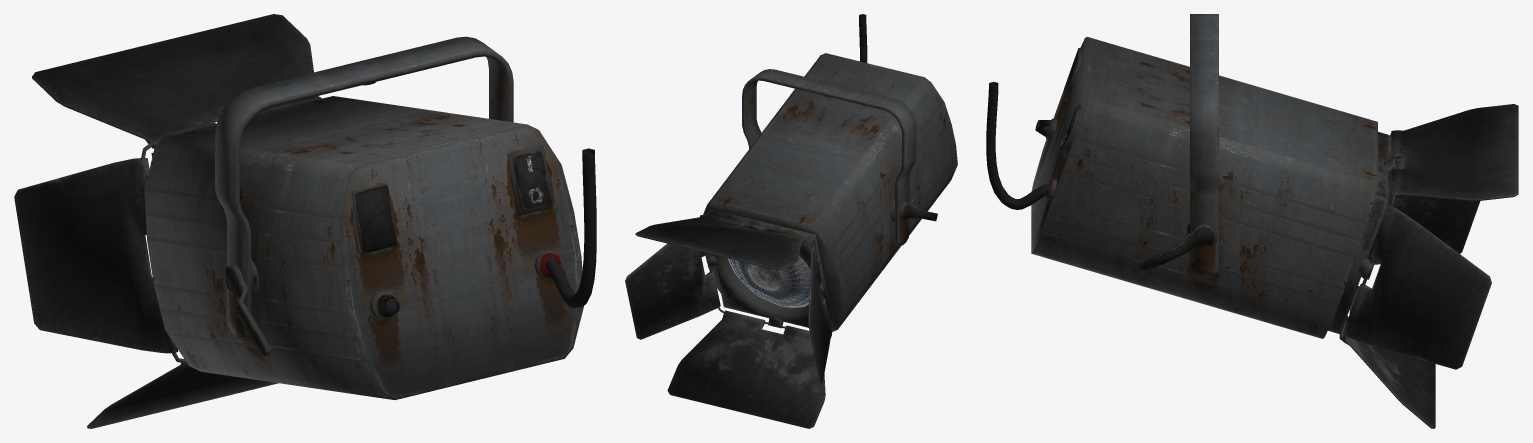
File: spotlight.fbx
3 renders of one model, left to right at view 1: azimuth 30°, elevation 25°; view 2: azimuth 150°, elevation 25°; view 3: azimuth 270°, elevation 25°, orthographic. The views are drawn at different scales.
Visible parts, largest first — view 1: Куб_лп, ручка_лп, Куб.001_лп, Куб.001_лп.002; view 2: Куб_лп, ручка_лп, Куб.001_лп, линза, Куб.001_лп.002; view 3: Куб_лп, ручка_лп, Куб.001_лп, Куб.001_лп.002.
Part boxes in pixels (x1,y1,x2,y2): Куб_лп: (141,96,583,399); ручка_лп: (14,14,513,428); Куб.001_лп: (151,82,562,358); Куб.001_лп.002: (545,148,596,308); Куб_лп: (700,53,957,331); ручка_лп: (625,69,916,428); Куб.001_лп: (707,95,937,328); линза: (728,255,810,307); Куб.001_лп.002: (859,14,867,62); Куб_лп: (1031,37,1397,340); ручка_лп: (1190,14,1518,428); Куб.001_лп: (1035,48,1388,334); Куб.001_лп.002: (986,82,1050,209).
Bounding box in the file's own units: 353 × 471 × 685.
